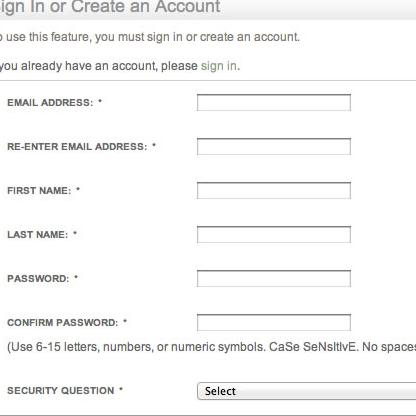field: (195, 180, 353, 200), (194, 313, 352, 333), (195, 224, 352, 244), (195, 92, 351, 112), (194, 269, 353, 288), (195, 137, 353, 156)
